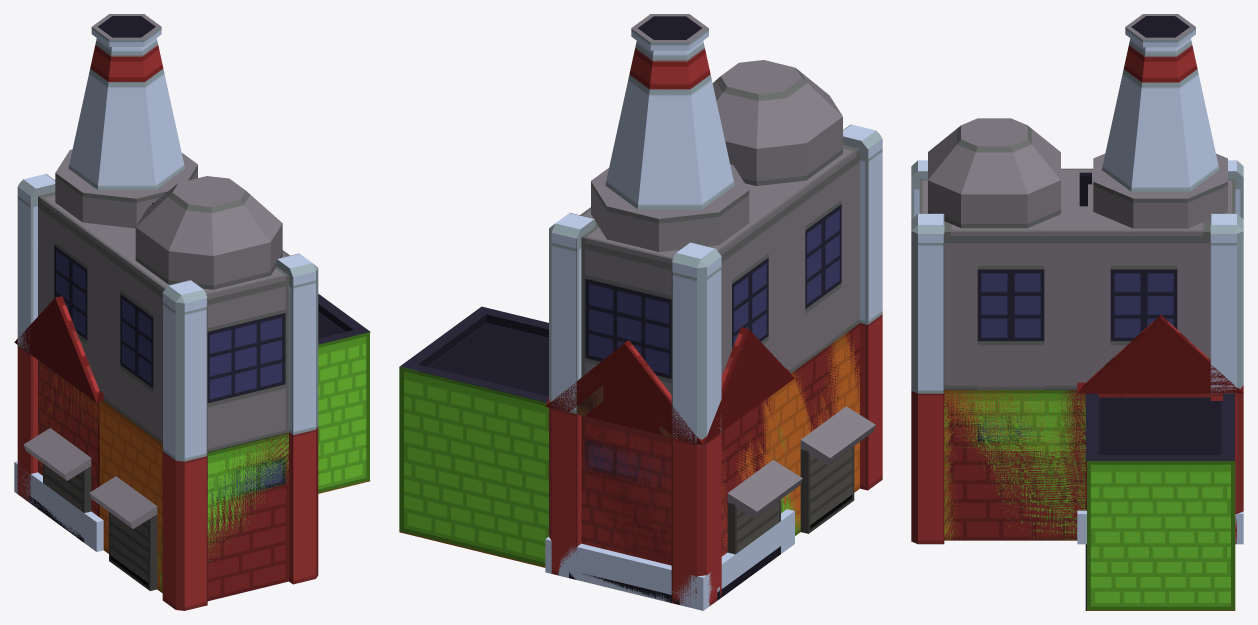
File: houses.fbx
3 renders of one model, left to right at view 1: azimuth 30°, elevation 25°; view 2: azimuth 150°, elevation 25°; view 3: azimuth 270°, elevation 25°, orthographic. The views are drawn at different scales.
Visible parts, largest first — view 1: midel, catı, base, house0, house1, house, cati2, yol0, cati3; view 2: midel, catı, base, house0, house, house1, cati2, yol0, cati0, cati3, cati1, yol3 (+1 smaller); view 3: midel, house0, catı, base, cati1, house1, house, yol0.
Boxes of the visible parts, x1=… form: midel: x1=17, y1=196, x2=318, y2=461; catı: x1=17, y1=14, x2=318, y2=312; base: x1=17, y1=345, x2=318, y2=610; house0: x1=157, y1=294, x2=370, y2=592; house1: x1=38, y1=360, x2=288, y2=592; house: x1=38, y1=360, x2=99, y2=516; cati2: x1=14, y1=296, x2=102, y2=402; yol0: x1=14, y1=461, x2=103, y2=551; cati3: x1=14, y1=296, x2=101, y2=401; midel: x1=549, y1=149, x2=882, y2=442; catı: x1=549, y1=14, x2=882, y2=277; base: x1=549, y1=314, x2=882, y2=605; house0: x1=399, y1=306, x2=843, y2=567; house: x1=581, y1=416, x2=781, y2=564; house1: x1=721, y1=331, x2=859, y2=555; cati2: x1=546, y1=327, x2=794, y2=444; yol0: x1=545, y1=509, x2=794, y2=610; cati0: x1=545, y1=340, x2=791, y2=444; cati3: x1=702, y1=327, x2=794, y2=444; cati1: x1=545, y1=369, x2=793, y2=438; yol3: x1=561, y1=543, x2=689, y2=590; midel: x1=911, y1=186, x2=1243, y2=393; house0: x1=944, y1=390, x2=1235, y2=610; catı: x1=911, y1=14, x2=1243, y2=242; base: x1=911, y1=389, x2=1243, y2=544; cati1: x1=1077, y1=315, x2=1243, y2=393; house1: x1=944, y1=389, x2=1208, y2=540; house: x1=1085, y1=393, x2=1210, y2=510; yol0: x1=1077, y1=510, x2=1243, y2=544.
Size of the model in its own units: 417 by 640 by 400.
